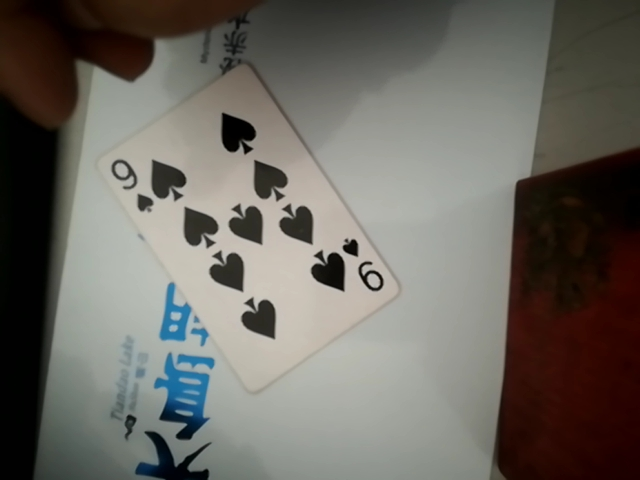ht 9: (94, 59, 395, 403)
